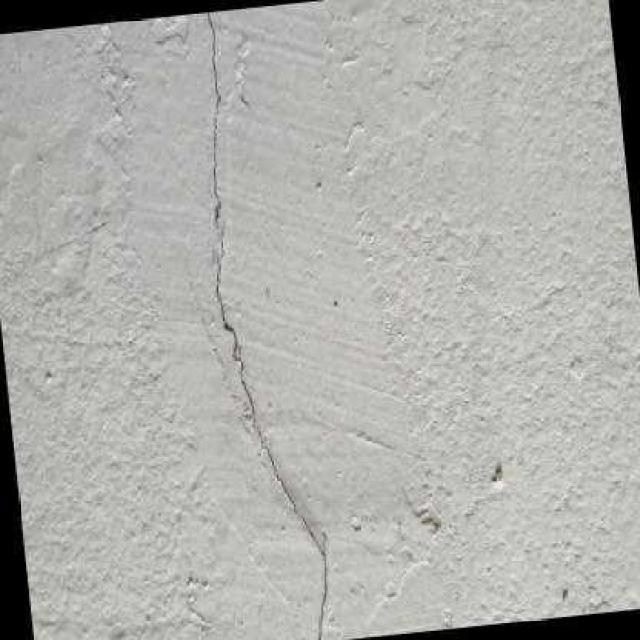D00: (203, 10, 328, 640)
